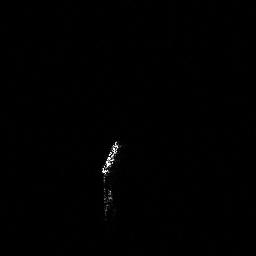ship: (97, 138, 123, 218)
